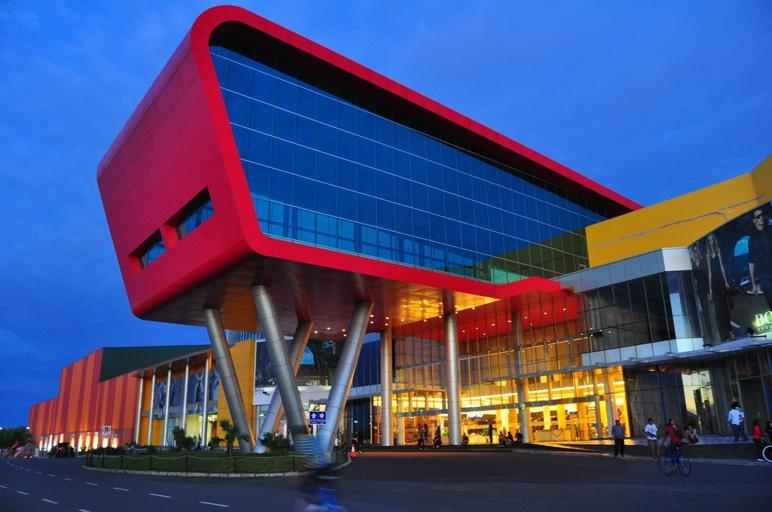non-vehicle: (655, 437, 693, 476), (762, 441, 772, 462)
